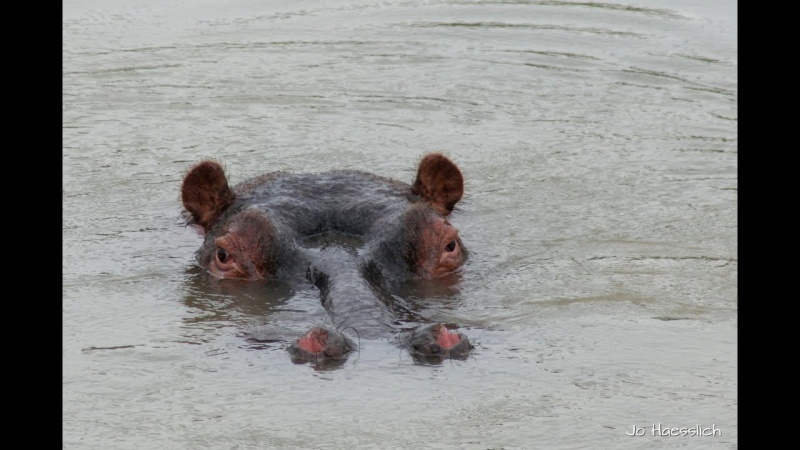hipopotamo: (169, 145, 499, 380)
